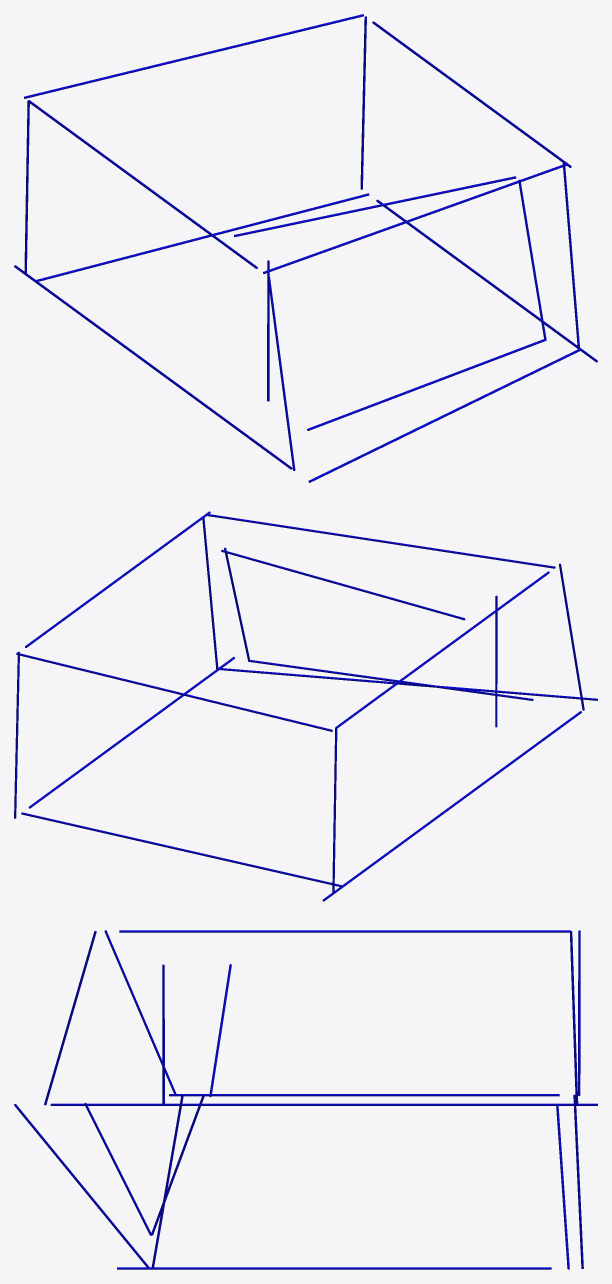
File: corrected_3d_strokes.glb
The picture shows the model from 3 angles, top to bottom: view 1: azimuth 30°, elevation 25°; view 2: azimuth 150°, elevation 25°; view 3: azimuth 270°, elevation 25°; orthographic projection. The views are drawn at different scales.
Parts seen in each view (by area): view 1: world; view 2: world; view 3: world.
Boxes of the visible parts, bbox=[...] form: world: bbox=[14, 14, 597, 482]; world: bbox=[14, 511, 597, 901]; world: bbox=[14, 930, 597, 1269].
Bounding box in the file's own units: 6.22 × 3.09 × 9.32.
